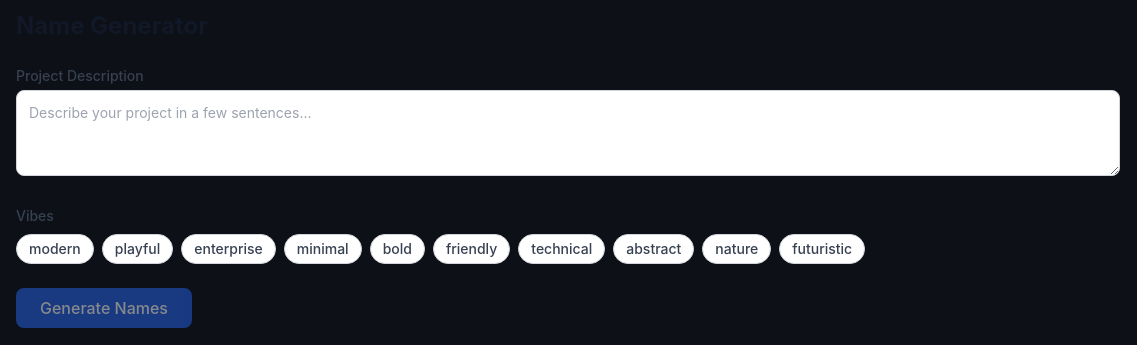
Scenario: NameGenerator › enables generate button when description is entered
The image size is (1137, 345).
Type "A developer tool" into the text box labelled "Project Description" at (568,133), box [16,90,1120,176]
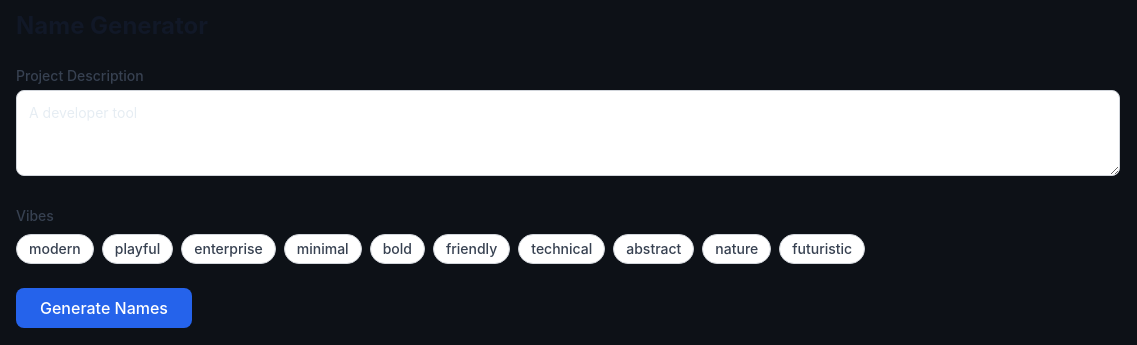
Result: the button "Generate Names" is enabled at [16,288,192,328]
